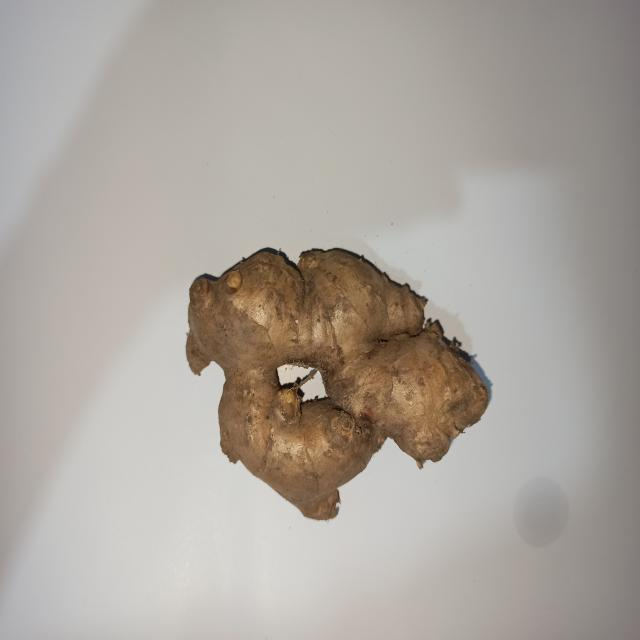ginger: (196, 251, 480, 520)
